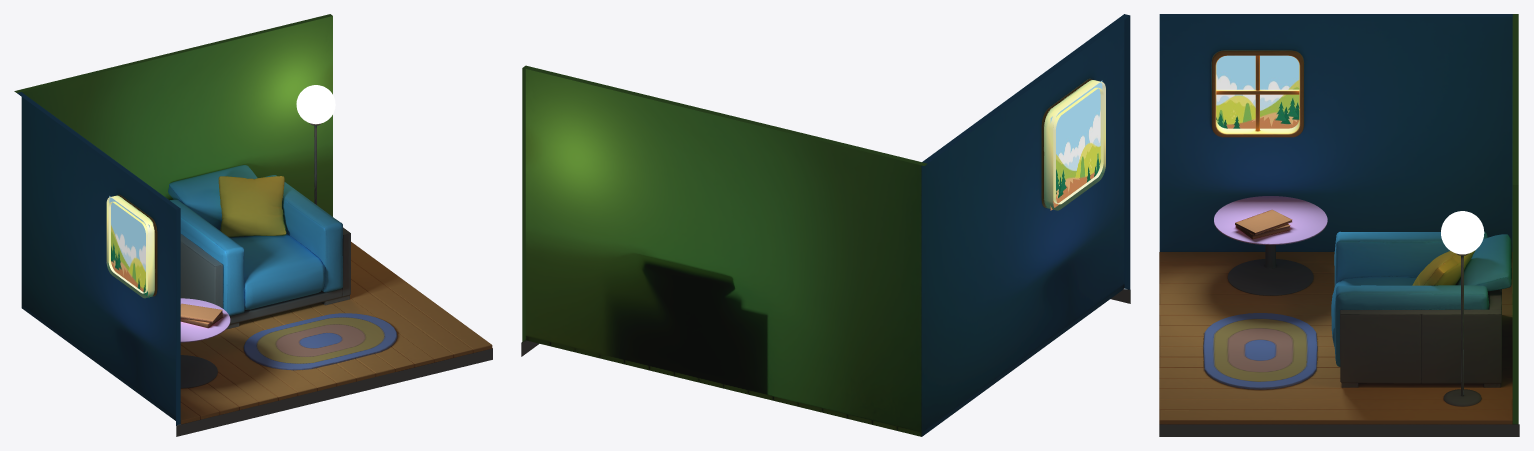
File: Seating.glb
3 views of the same model, side by side, from view 1: azimuth 30°, elevation 25°; view 2: azimuth 150°, elevation 25°; view 3: azimuth 270°, elevation 25° (orthographic). The views are drawn at different scales.
Parts seen in each view (by area): view 1: Wall, Sofa, Carpet, windowout, TTable, Window, glow, BooksAndMugs; view 2: Wall, windowout, Window; view 3: Wall, Sofa, Carpet, TTable, windowout, Window, glow, BooksAndMugs.
Boxes of the visible parts, bbox=[...] form: Wall: bbox=[14, 14, 492, 436]; Sofa: bbox=[168, 165, 350, 329]; Carpet: bbox=[243, 313, 397, 370]; windowout: bbox=[109, 196, 149, 297]; TTable: bbox=[180, 123, 321, 388]; Window: bbox=[106, 195, 157, 298]; glow: bbox=[296, 85, 335, 124]; BooksAndMugs: bbox=[180, 303, 222, 327]; Wall: bbox=[521, 14, 1130, 436]; windowout: bbox=[1050, 80, 1102, 210]; Window: bbox=[1041, 79, 1105, 210]; Wall: bbox=[1159, 14, 1519, 436]; Sofa: bbox=[1331, 231, 1511, 387]; Carpet: bbox=[1203, 313, 1317, 389]; TTable: bbox=[1214, 196, 1481, 406]; windowout: bbox=[1216, 55, 1299, 128]; Window: bbox=[1212, 50, 1303, 137]; glow: bbox=[1441, 211, 1484, 254]; BooksAndMugs: bbox=[1235, 209, 1292, 239].
Size of the model in its own units: 3.23 by 2.19 by 2.84.
8 materials, 7 textured.
